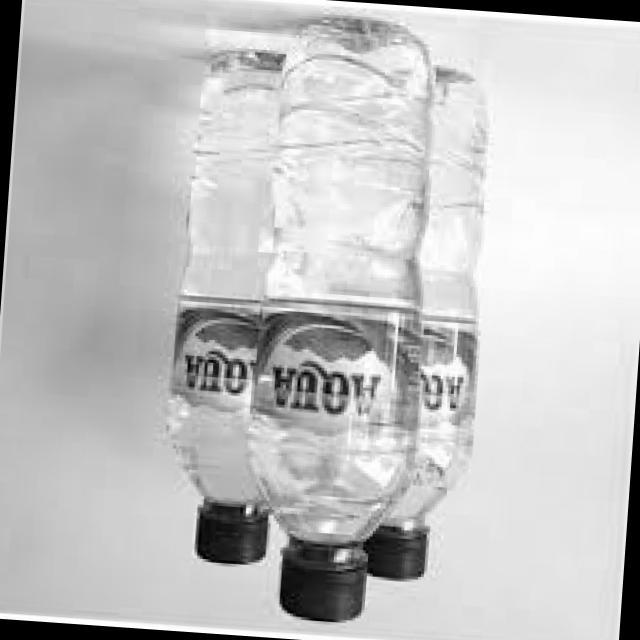good: (212, 0, 451, 635), (148, 0, 297, 584), (350, 62, 509, 599)
